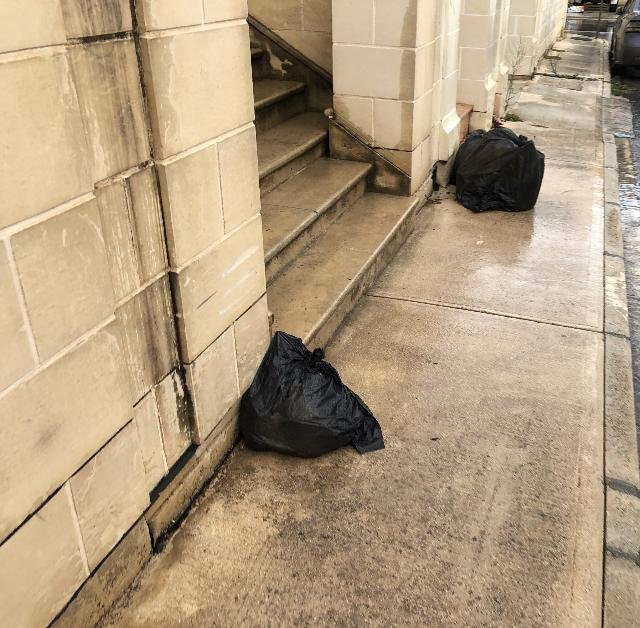Mixed -Black-: (239, 332, 384, 458), (451, 127, 544, 212)
